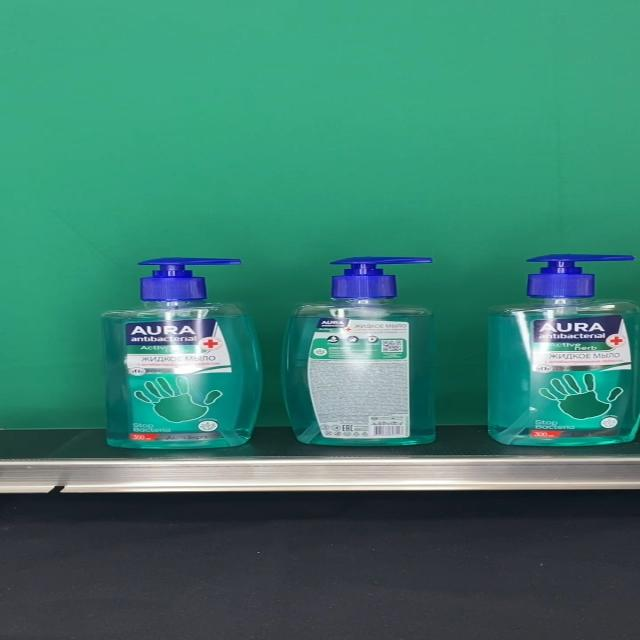Bottle: (100, 258, 262, 450), (485, 254, 640, 446), (282, 256, 436, 446)
Cap: (526, 255, 636, 297), (137, 258, 240, 300), (331, 256, 434, 298)
